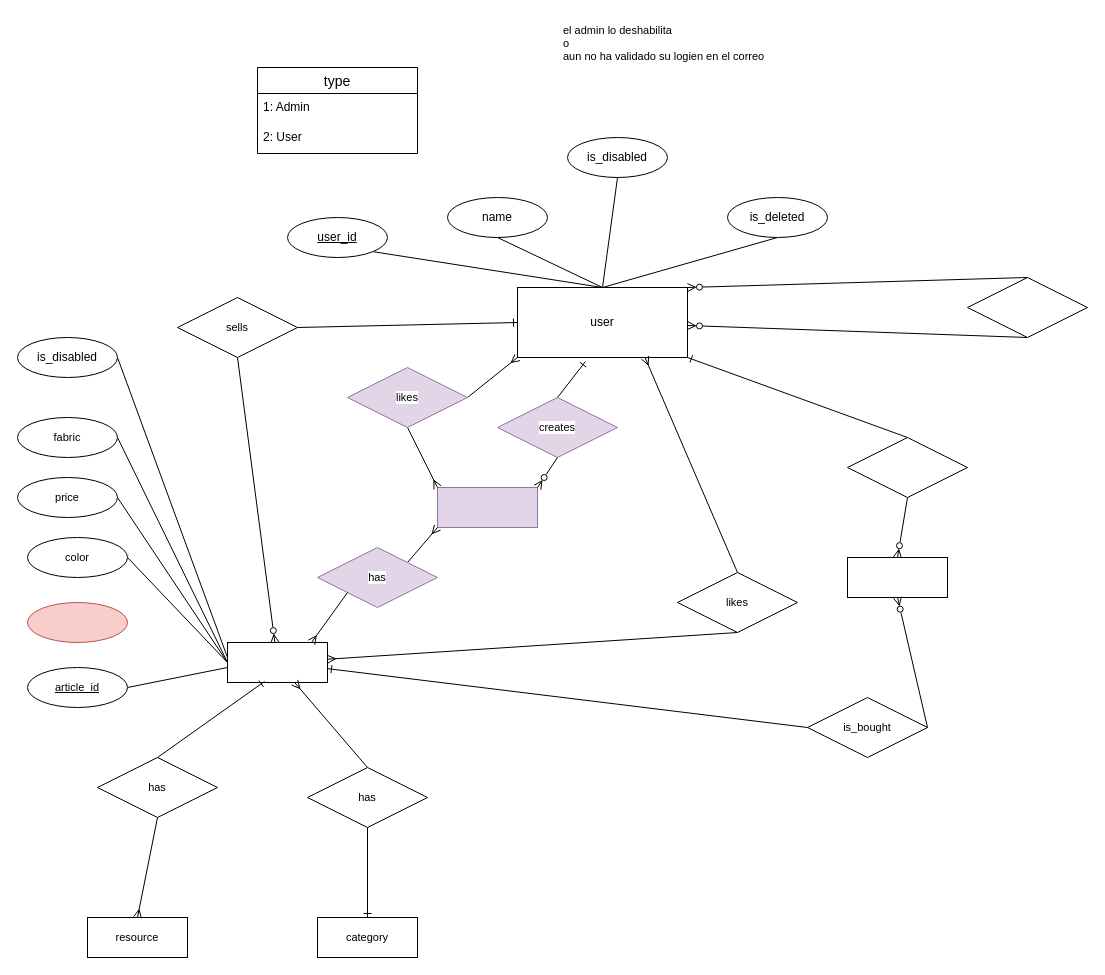
Image size: 1105x975. Some labels were removed from this diagram. The shapes that lost their labels are listed below. From the top down, each one's centre as x and y in pixels, then its label:
At (x=1027, y=307): "follows".
At (x=907, y=467): "does".
At (x=487, y=507): "collection".
At (x=897, y=577): "order".
At (x=77, y=622): "stock?".
At (x=277, y=662): "article".
